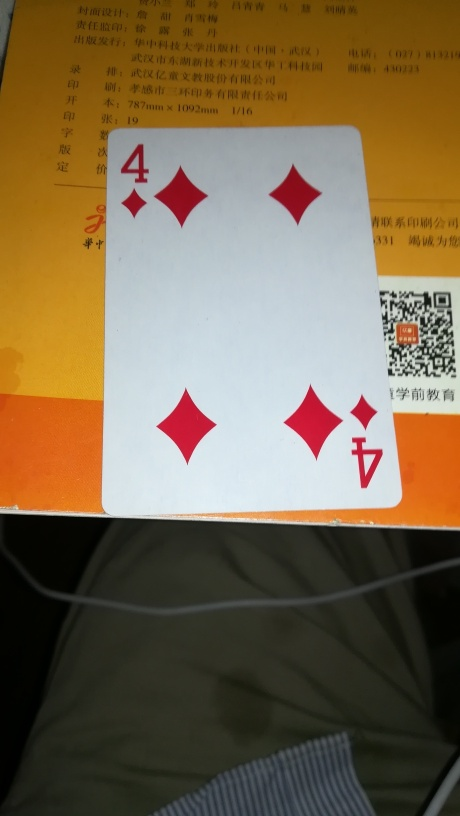fk 4: (98, 123, 407, 519)
